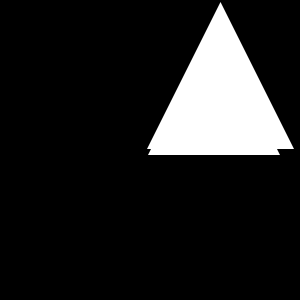triangle: (147, 2, 294, 149), (148, 23, 280, 155)
